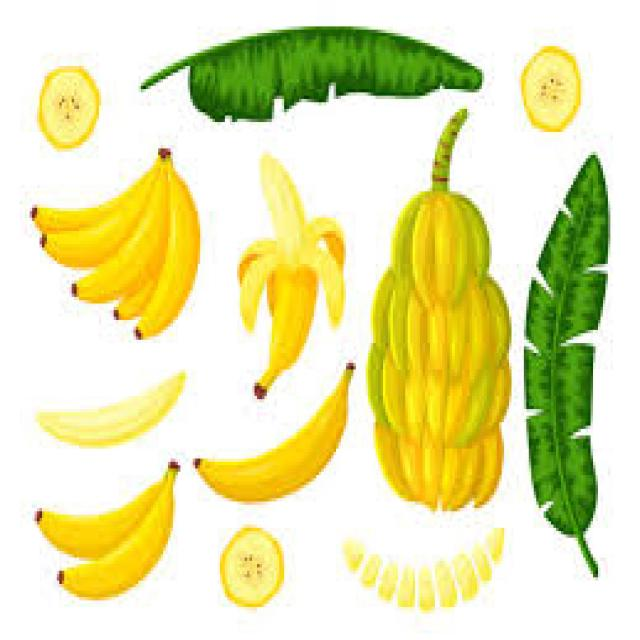banana: (27, 145, 200, 340), (235, 152, 346, 399), (190, 359, 356, 502), (32, 456, 181, 600), (35, 366, 185, 449)
